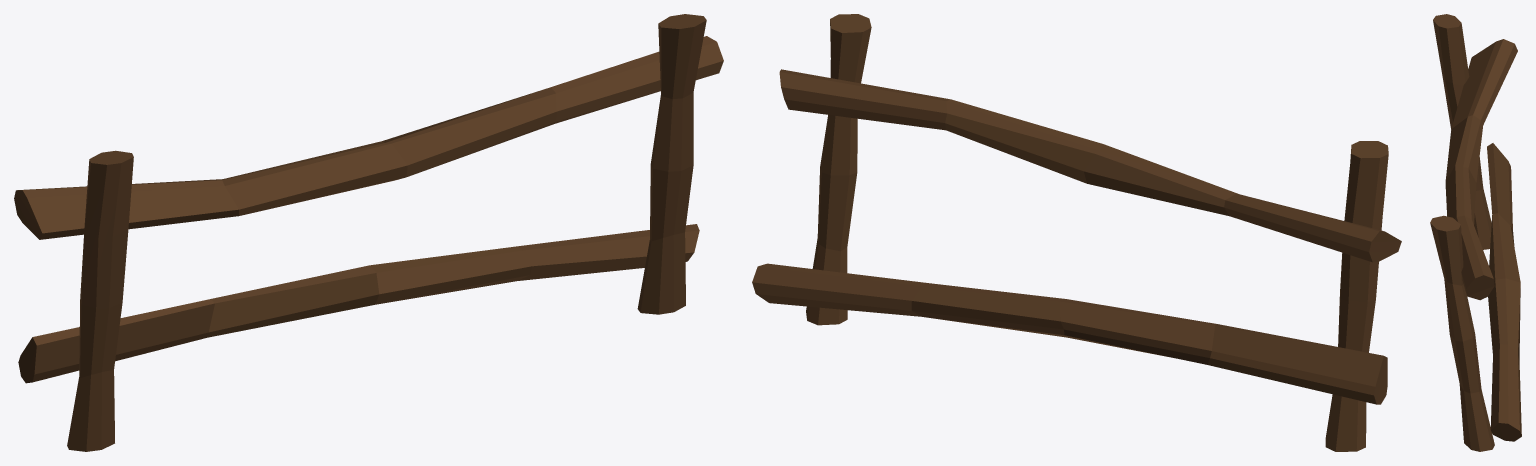
File: woodenFence_02.fbx
3 views of the same model, side by side, from view 1: azimuth 30°, elevation 25°; view 2: azimuth 150°, elevation 25°; view 3: azimuth 270°, elevation 25° (orthographic). The views are drawn at different scales.
Visible parts, largest first — view 1: wooden fence.016; view 2: wooden fence.016; view 3: wooden fence.016.
Boxes of the visible parts, x1=… form: wooden fence.016: x1=14, y1=14, x2=723, y2=451; wooden fence.016: x1=752, y1=14, x2=1401, y2=451; wooden fence.016: x1=1430, y1=14, x2=1521, y2=451.
Size of the model in its own units: 1551 by 675 by 251.
